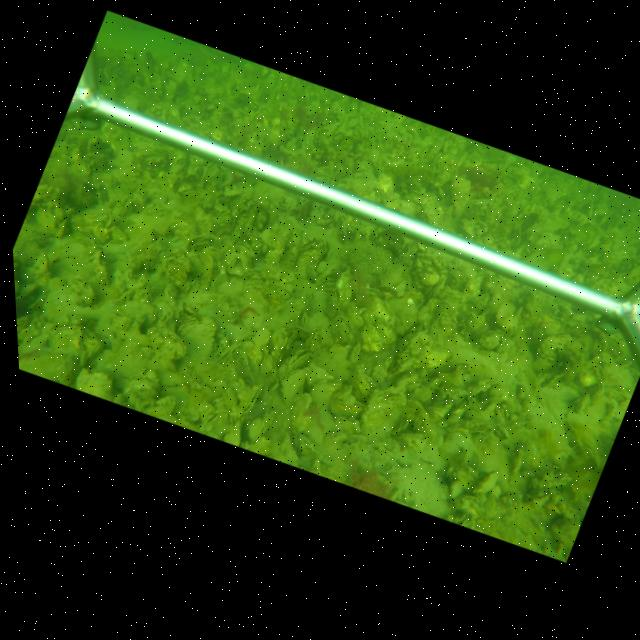Oyster-Closed: (359, 390, 418, 440), (176, 314, 218, 360), (416, 273, 446, 323), (397, 317, 427, 364), (47, 321, 86, 352), (233, 383, 264, 420), (212, 335, 249, 366), (295, 237, 327, 272), (306, 363, 341, 395), (351, 363, 377, 402), (280, 368, 306, 407), (422, 347, 452, 374), (328, 315, 355, 345), (423, 399, 455, 424), (310, 378, 343, 400), (275, 329, 297, 361), (123, 375, 160, 393), (233, 240, 256, 266), (305, 328, 324, 356), (325, 287, 342, 318), (473, 470, 494, 494), (334, 417, 360, 433), (210, 271, 228, 294), (371, 283, 397, 297), (495, 404, 510, 426), (347, 343, 362, 364), (397, 373, 421, 386)
Oyster-Indeterminate: (159, 253, 192, 295)
Oyster-Open: (283, 348, 312, 372)
